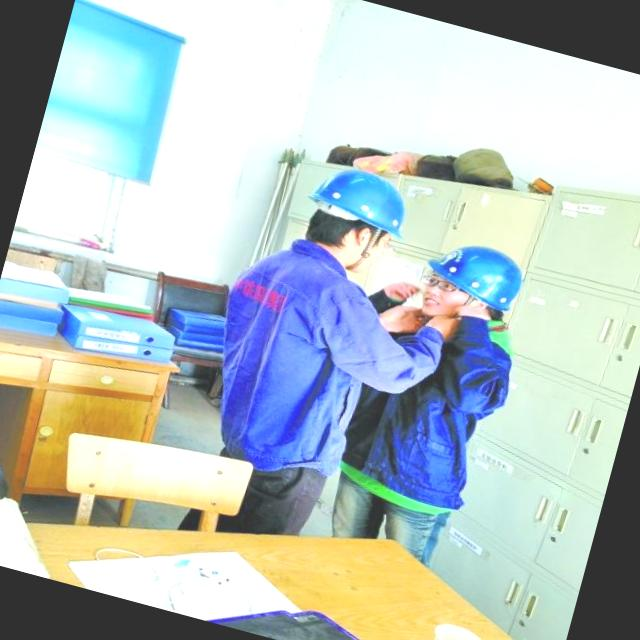helmet: (294, 152, 439, 250), (417, 236, 544, 318)
no-goggles: (409, 265, 467, 299)
no-vest: (195, 219, 422, 492)
